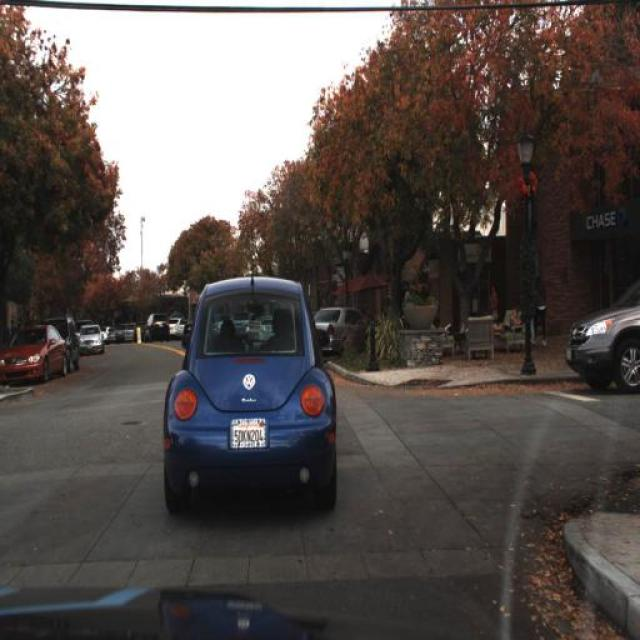car: (154, 268, 342, 521), (564, 294, 640, 388), (0, 322, 68, 383), (312, 302, 368, 357), (53, 311, 81, 367), (142, 311, 170, 349), (76, 322, 105, 358), (77, 322, 105, 356)
trafficLight: (532, 274, 548, 347), (494, 308, 517, 334), (525, 314, 537, 354), (505, 295, 519, 320), (488, 285, 500, 311), (516, 307, 528, 331)
